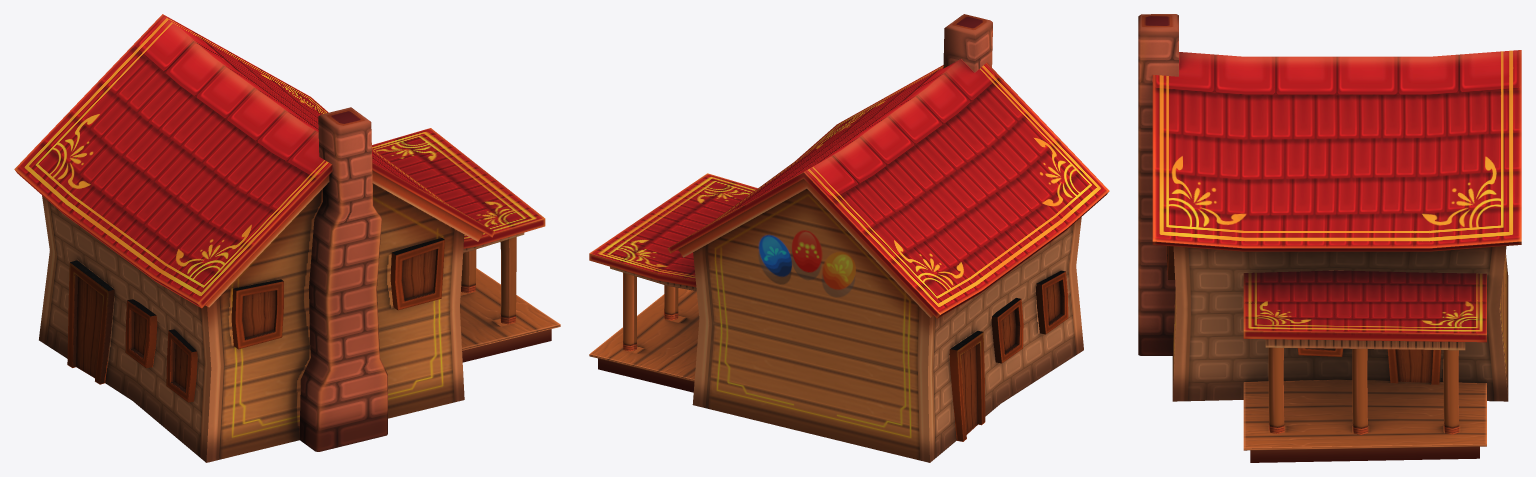
The model's file is House_09.FBX.
The picture shows the model from 3 angles, left to right: view 1: azimuth 30°, elevation 25°; view 2: azimuth 150°, elevation 25°; view 3: azimuth 270°, elevation 25°; orthographic projection. The views are drawn at different scales.
Parts seen in each view (by area): view 1: House_09; view 2: House_09; view 3: House_09.
Part boxes in pixels (left/top/right/bottom): House_09: left=14, top=14, right=560, bottom=462; House_09: left=589, top=14, right=1109, bottom=462; House_09: left=1138, top=14, right=1521, bottom=462.
Bounding box in the file's own units: 220 × 165 × 179.
